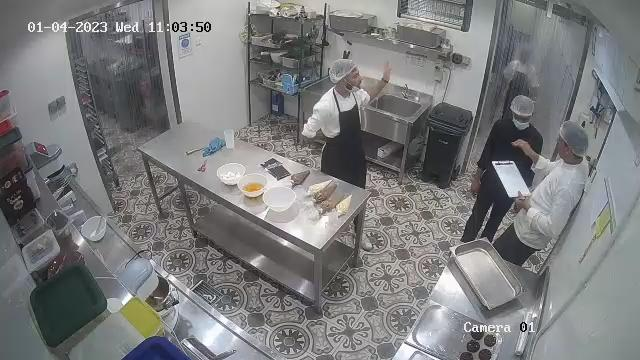apron: (323, 90, 363, 188)
no_apron: (509, 159, 581, 260), (481, 117, 541, 209)
